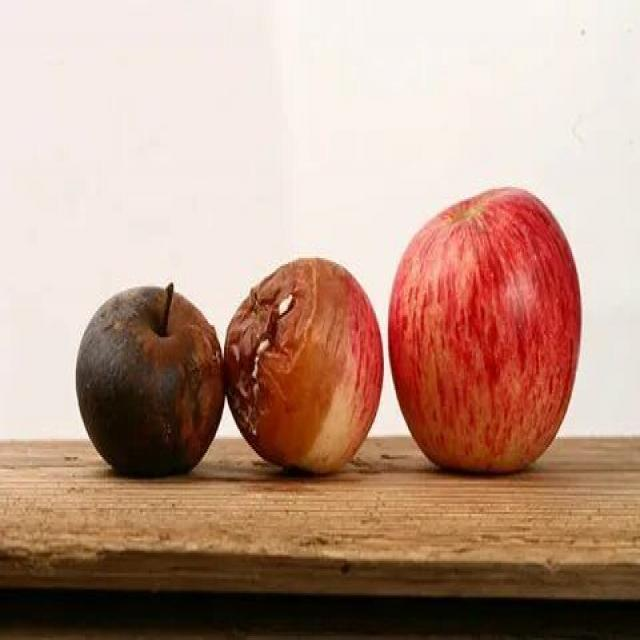fresh_apple: (387, 183, 580, 473)
rotten_apple: (226, 259, 385, 476), (77, 290, 223, 480)
